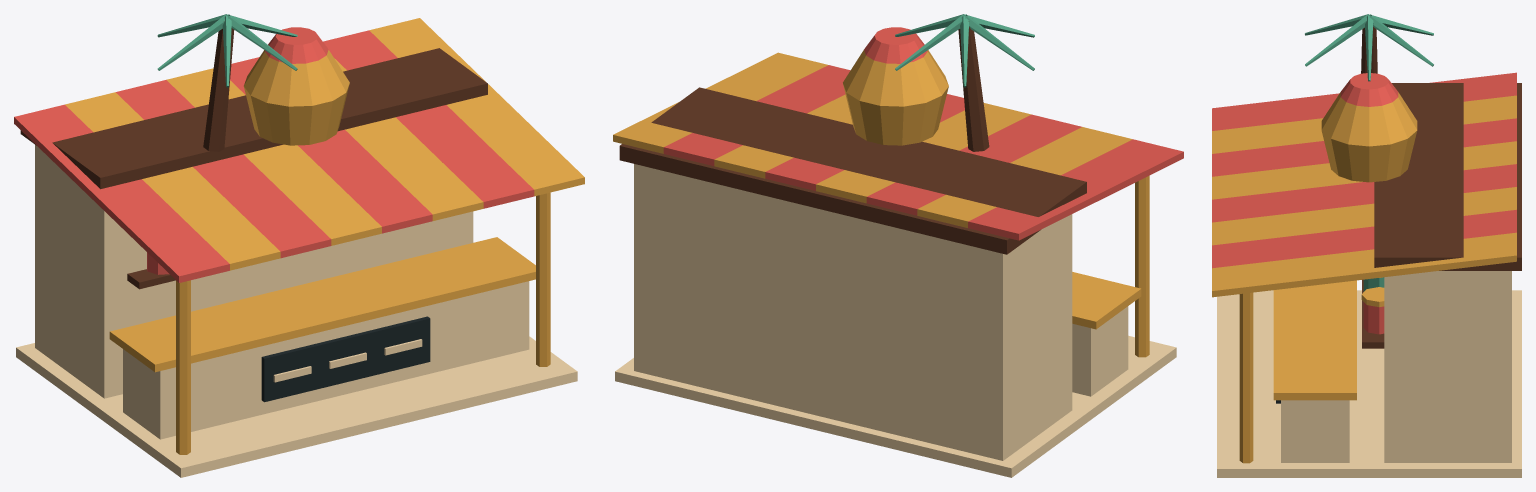
File: ParkParkShopOasis.obj
3 renders of one model, left to right at view 1: azimuth 30°, elevation 25°; view 2: azimuth 150°, elevation 25°; view 3: azimuth 270°, elevation 25°, orthographic. The views are drawn at different scales.
Visible parts, largest first — view 1: ParkParkShopOasis; view 2: ParkParkShopOasis; view 3: ParkParkShopOasis.
Part boxes in pixels (x1,y1,x2,y2): ParkParkShopOasis: (14, 14, 584, 477); ParkParkShopOasis: (613, 14, 1183, 477); ParkParkShopOasis: (1212, 14, 1521, 477).
Bounding box in the file's own units: 8.8 × 7.69 × 6.3.
